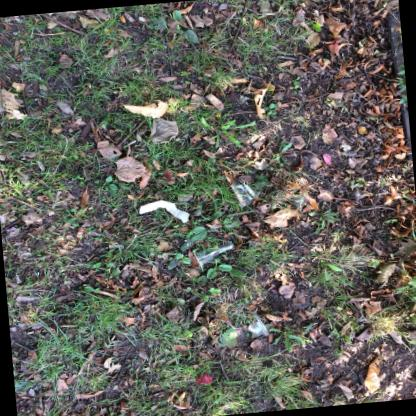Paper: (139, 200, 190, 223)
Plastic: (193, 241, 234, 272), (225, 176, 260, 207), (248, 317, 268, 336)
